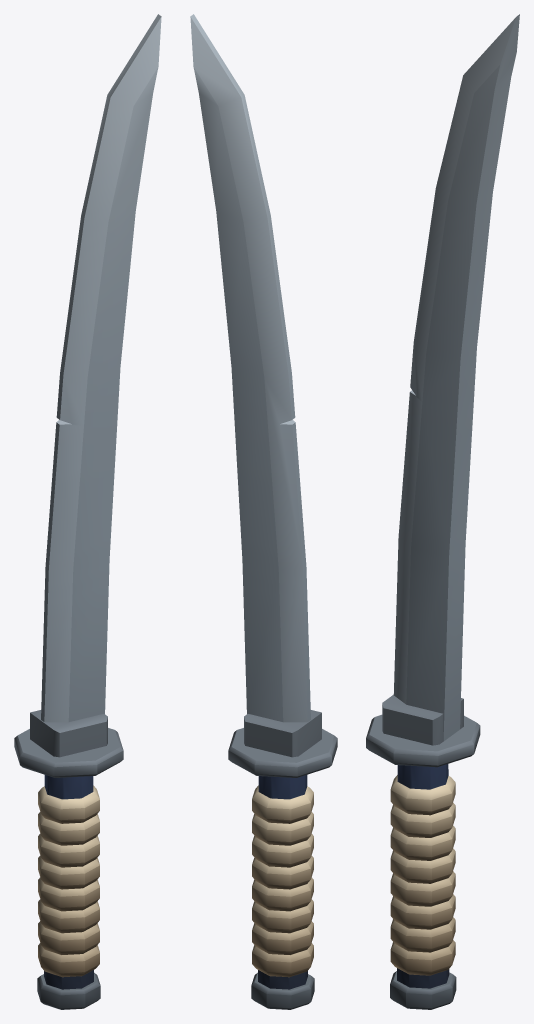
Rendered from greatblade_curved.glb.
3 views of the same model, side by side, from view 1: azimuth 30°, elevation 25°; view 2: azimuth 150°, elevation 25°; view 3: azimuth 330°, elevation 25° (orthographic). The views are drawn at different scales.
Parts seen in each view (by area): view 1: Item; view 2: Item; view 3: Item.
Part boxes in pixels (x1,y1,x2,y2): Item: [14, 14, 161, 1009]; Item: [190, 14, 337, 1009]; Item: [366, 14, 519, 1009].
Size of the model in its own units: 0.3846 by 2.52 by 0.2692.
Materials: 2 (2 with a texture image).
